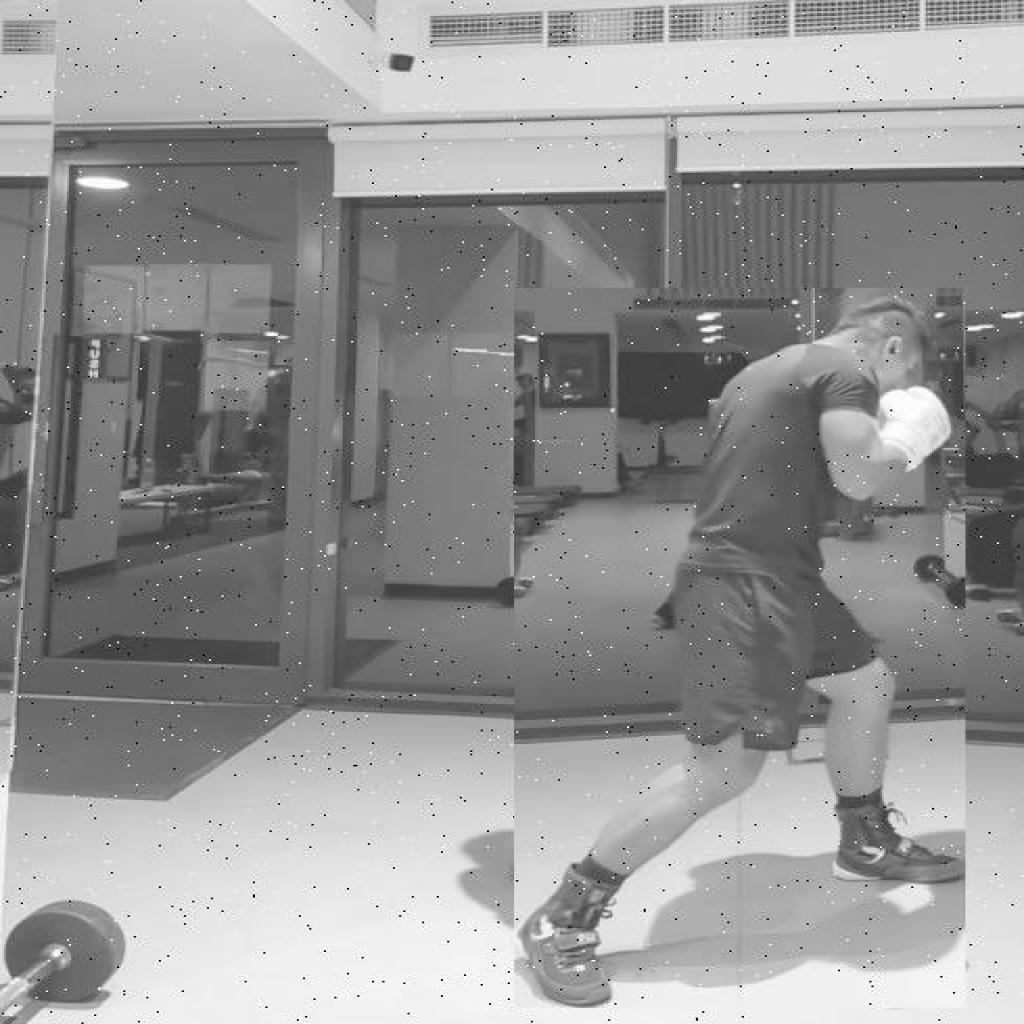no punch: (514, 288, 967, 1007)
